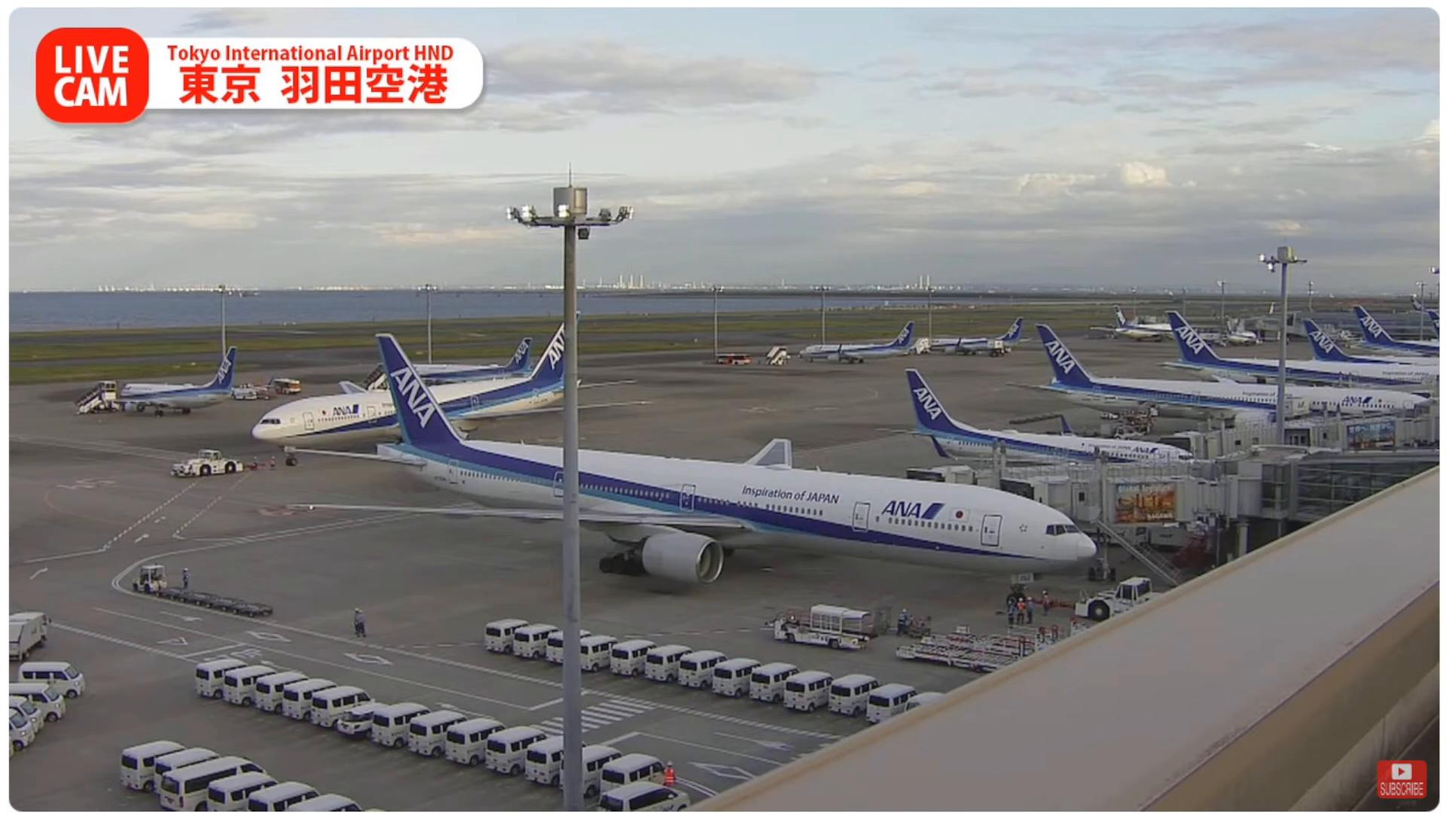APS: (1079, 573, 1169, 620)
Aerobridge: (937, 438, 1217, 490), (1025, 480, 1229, 535)
Airplane: (279, 328, 1098, 610)
Dolly: (150, 582, 277, 620)
JCPL: (885, 636, 1027, 672)
Skyloader: (759, 597, 875, 655)
Tractor: (126, 563, 169, 599)
Window: (1286, 455, 1435, 523)
